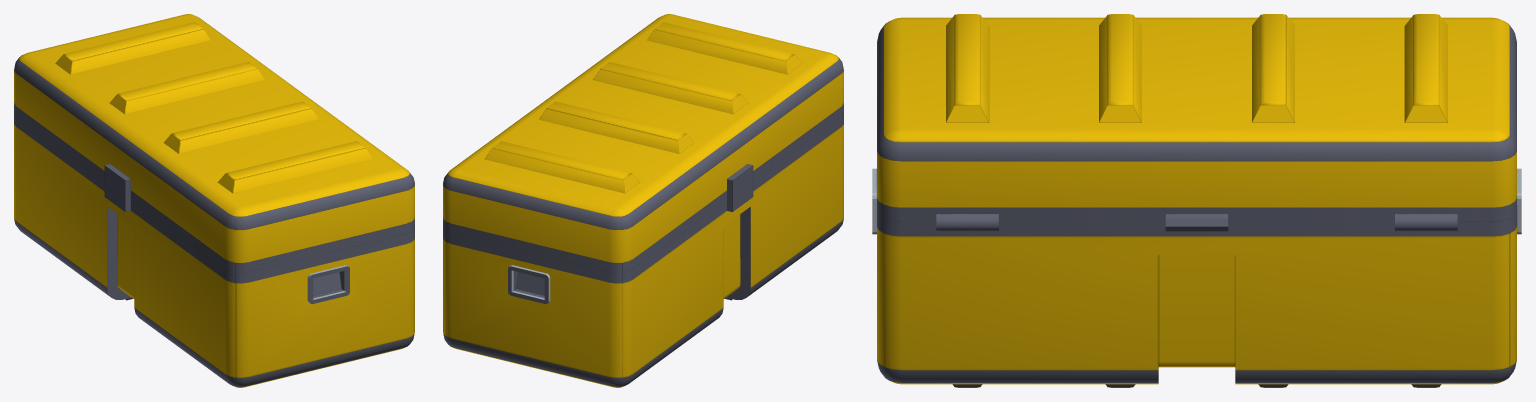
The model's file is Crate_Simple_02.FBX.
3 views of the same model, side by side, from view 1: azimuth 30°, elevation 25°; view 2: azimuth 150°, elevation 25°; view 3: azimuth 270°, elevation 25° (orthographic). The views are drawn at different scales.
Parts seen in each view (by area): view 1: Crate_Top_02, Crate_Simple_02; view 2: Crate_Top_02, Crate_Simple_02; view 3: Crate_Top_02, Crate_Simple_02.
Part boxes in pixels (x1,y1,x2,y2): Crate_Top_02: [14, 14, 414, 272]; Crate_Simple_02: [14, 114, 414, 387]; Crate_Top_02: [443, 14, 843, 272]; Crate_Simple_02: [443, 114, 843, 387]; Crate_Top_02: [877, 14, 1516, 221]; Crate_Simple_02: [872, 168, 1521, 387].
Size of the model in its own units: 1.07 by 1.03 by 2.12.
